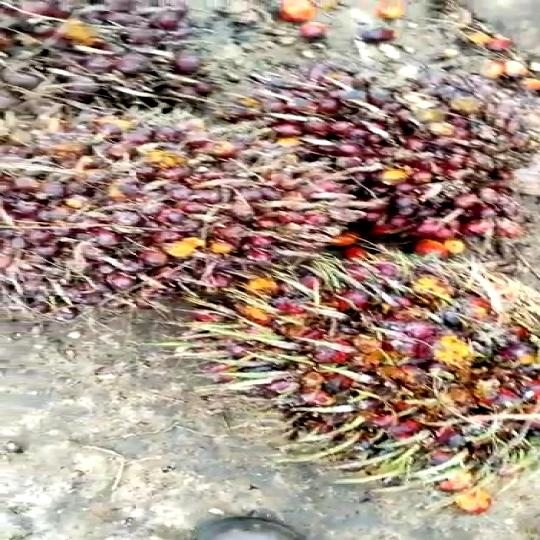masak: (0, 105, 386, 318), (196, 252, 540, 481)
